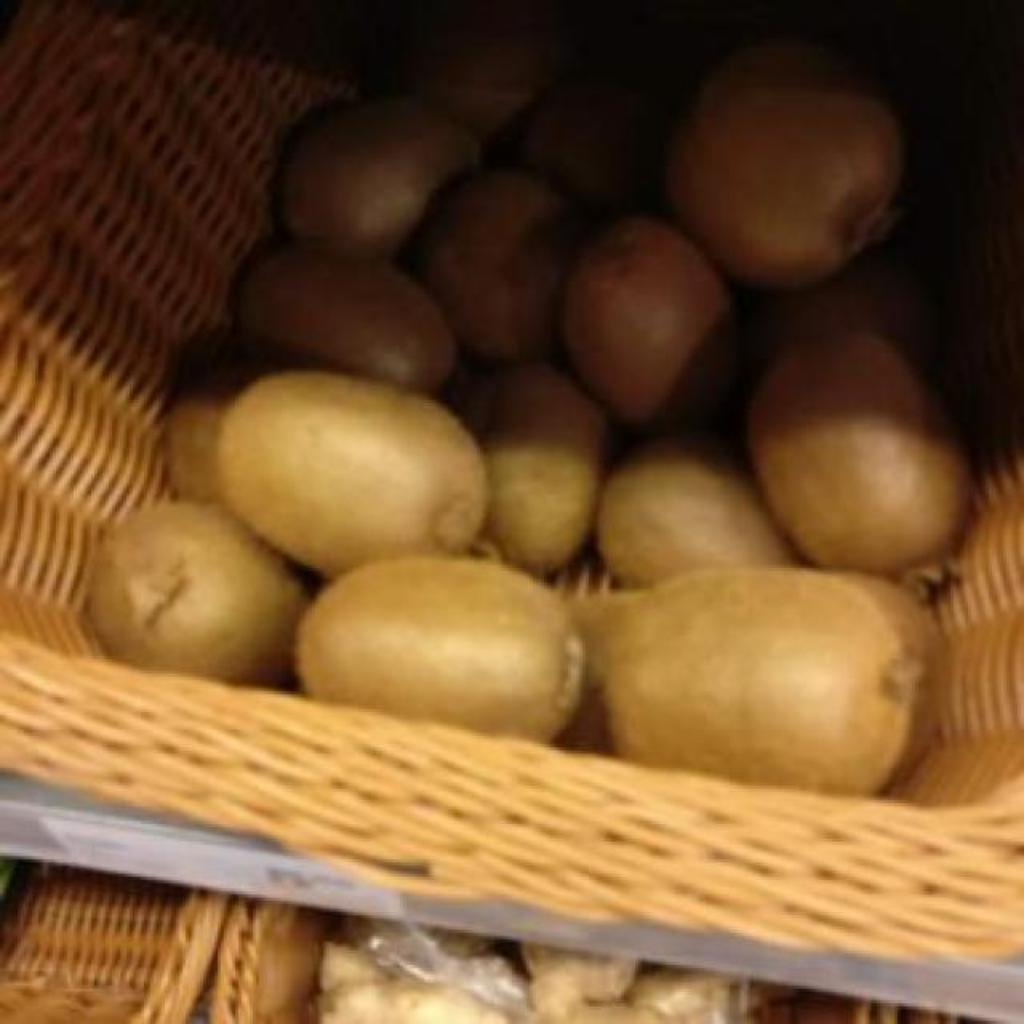kiwi: (606, 568, 920, 793), (666, 44, 902, 285), (218, 372, 486, 573), (296, 558, 582, 741), (750, 334, 966, 571), (88, 502, 306, 685), (564, 216, 728, 423), (244, 244, 456, 391), (282, 98, 478, 256), (598, 442, 792, 585), (422, 170, 566, 361), (162, 334, 260, 501), (488, 438, 598, 571)
